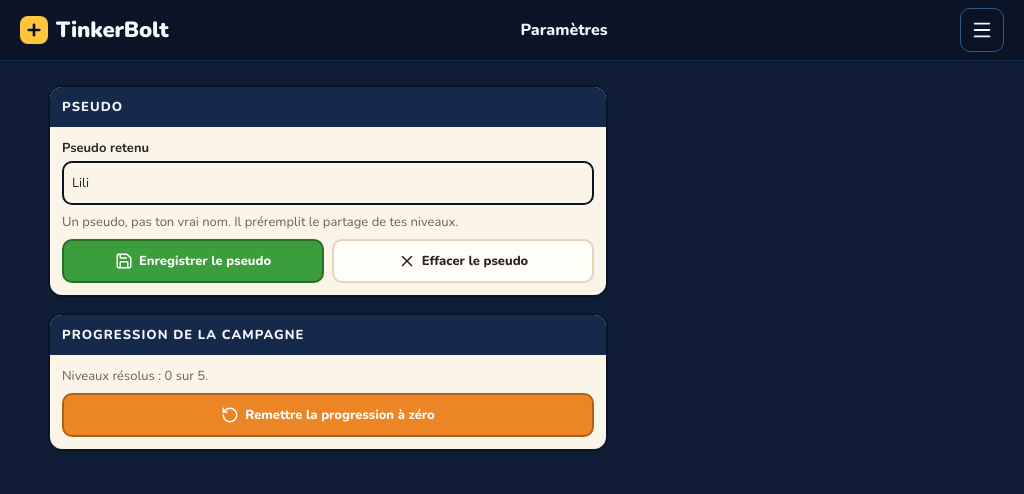
Paramètres — pseudo retenu (U11, ADR 0016 § Pseudo) › efface le pseudo seulement
Click the button "Effacer le pseudo" at (463, 261), box [332,239,594,283]
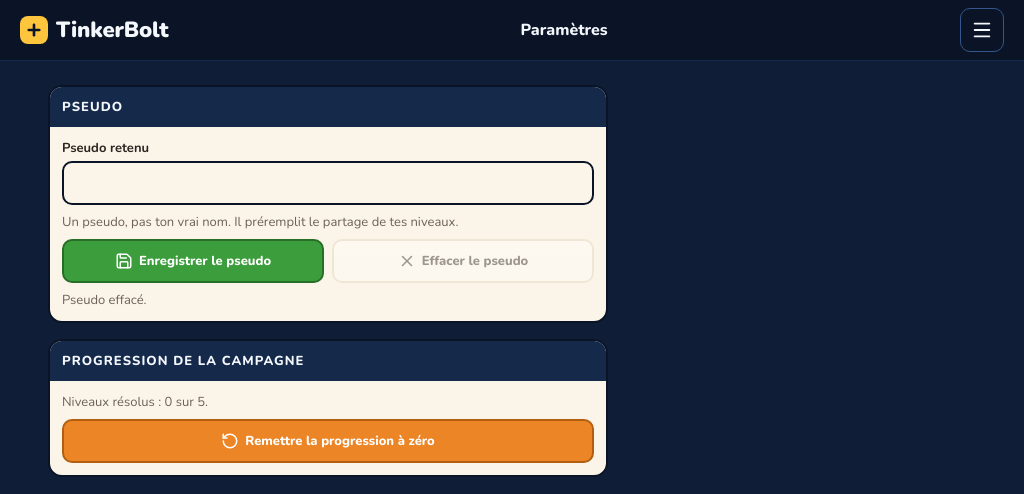
expect the field labelled "Pseudo retenu" is empty: met, box [62,161,594,205]
expect the message reads "Pseudo effacé.": met, box [62,291,147,309]
expect the button "Effacer le pseudo" is disabled: met, box [332,239,594,283]
